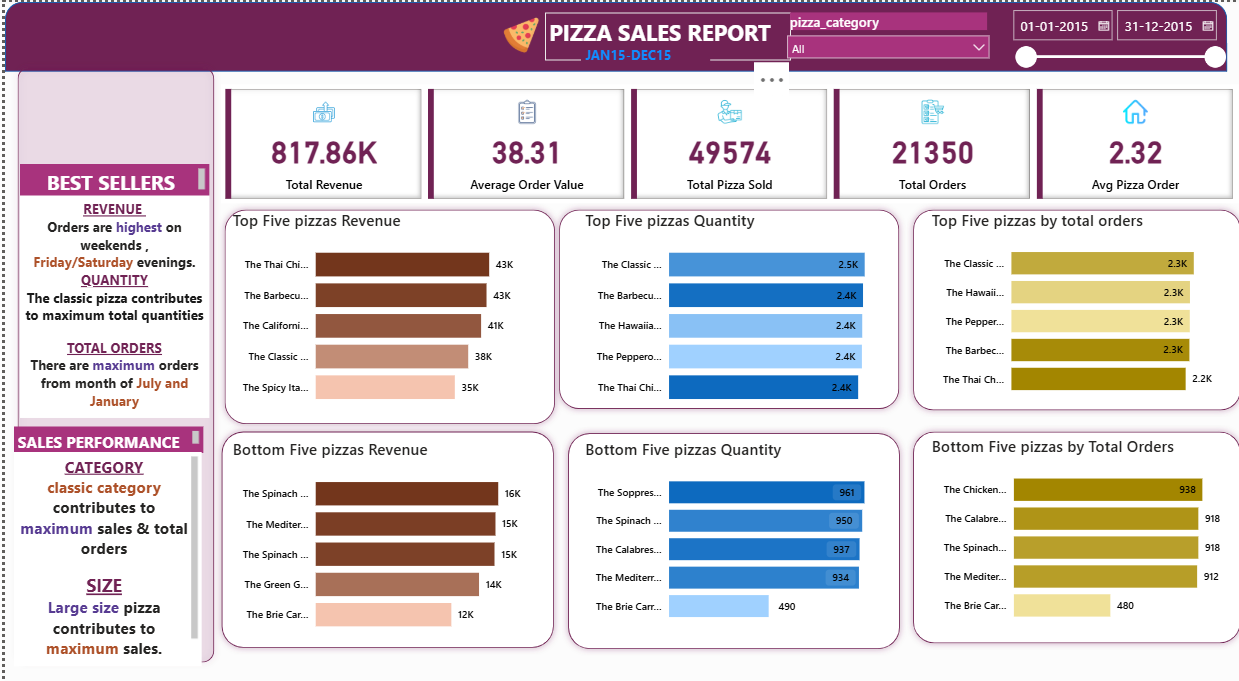

The page's visual inventory and layout, read from the dashboard file:
{"tool":"powerbi","page":{"name":"best and worst sales","canvas":[1500,820],"ordinal":1},"visuals":[{"type":"cardVisual","fields":{"Data":["pizza_sales.Total Revenue","pizza_sales.Average Order Value","pizza_sales.Total Pizza Sold","pizza_sales.Total Orders","pizza_sales.Avg Pizza Order"]},"box":[260,100,1230,143.3],"z":0},{"type":"shape","box":[0,0,1476,84],"z":1000},{"type":"textbox","box":[651.4,12.9,297.1,57.1],"z":2000},{"type":"textbox","box":[696,48,156,32],"z":3000},{"type":"image","box":[594,12,58,54],"z":4000},{"type":"shape","box":[256.7,243.3,415,275],"z":5000},{"type":"shape","box":[6.7,70,253.3,735],"z":6000},{"type":"textbox","box":[18.3,195,228.3,38.3],"z":7000},{"type":"textbox","box":[18.3,233.3,228.3,268.3],"z":8000},{"type":"textbox","box":[11.7,513.3,228.3,31.7],"z":9000},{"type":"textbox","box":[11.7,543.3,226.7,258.3],"z":10000},{"type":"slicer","fields":{"Values":["pizza_sales.pizza_category"]},"box":[934,8,264,62],"z":11000},{"type":"slicer","fields":{"Values":["pizza_sales.order_date"]},"box":[1204,0,278,104],"z":12000},{"type":"shape","box":[661.7,243.3,426.7,256.7],"z":13000},{"type":"shape","box":[1088.3,243.3,411.7,258.3],"z":14000},{"type":"shape","box":[671.7,513.3,416.7,276.7],"z":15000},{"type":"shape","box":[252.9,511.4,417.1,277.1],"z":16000},{"type":"shape","box":[1088.3,510,411.7,271.7],"z":17000},{"type":"barChart","title":"Top Five pizzas Revenue","fields":{"Y":["pizza_sales.Total Revenue"],"Category":["pizza_sales.pizza_name"]},"box":[270,250,370,250],"z":18000},{"type":"barChart","title":"Bottom Five pizzas Revenue","fields":{"Y":["pizza_sales.Total Revenue"],"Category":["pizza_sales.pizza_name"]},"box":[270,527.1,370,247.1],"z":19000},{"type":"barChart","title":"Top Five pizzas Quantity","fields":{"Category":["pizza_sales.pizza_name"],"Y":["pizza_sales.Total Pizza Sold"]},"box":[695,250,371.7,250],"z":20000},{"type":"barChart","title":"Bottom Five pizzas Quantity","fields":{"Category":["pizza_sales.pizza_name"],"Y":["pizza_sales.Total Pizza Sold"]},"box":[695,526.7,371.7,235],"z":21000},{"type":"barChart","title":"Top Five pizzas by total orders","fields":{"Category":["pizza_sales.pizza_name"],"Y":["pizza_sales.Total Orders"]},"box":[1113.3,250,351.7,238.3],"z":22000},{"type":"barChart","title":"Bottom Five pizzas by Total Orders","fields":{"Category":["pizza_sales.pizza_name"],"Y":["pizza_sales.Total Orders"]},"box":[1113.3,523.3,363.3,238.3],"z":23000}]}

Visuals, with their boxes in screenshot pixels (x1, y1, x2, y2), scaled from the page's 1500x820 canvas onto the 1239x681 screenshot:
cardVisual - pizza_sales.Total Revenue x pizza_sales.Average Order Value: box=[215, 83, 1231, 202]
shape: box=[0, 0, 1219, 70]
textbox: box=[538, 11, 783, 58]
textbox: box=[575, 40, 704, 66]
image: box=[491, 10, 539, 55]
shape: box=[212, 202, 555, 430]
shape: box=[6, 58, 215, 669]
textbox: box=[15, 162, 204, 194]
textbox: box=[15, 194, 204, 417]
textbox: box=[10, 426, 198, 453]
textbox: box=[10, 451, 197, 666]
slicer - pizza_sales.pizza_category: box=[771, 7, 990, 58]
slicer - pizza_sales.order_date: box=[995, 0, 1224, 86]
shape: box=[547, 202, 899, 415]
shape: box=[899, 202, 1238, 417]
shape: box=[555, 426, 899, 656]
shape: box=[209, 425, 553, 655]
shape: box=[899, 424, 1238, 649]
"Top Five pizzas Revenue" barChart: box=[223, 208, 529, 415]
"Bottom Five pizzas Revenue" barChart: box=[223, 438, 529, 643]
"Top Five pizzas Quantity" barChart: box=[574, 208, 881, 415]
"Bottom Five pizzas Quantity" barChart: box=[574, 437, 881, 633]
"Top Five pizzas by total orders" barChart: box=[920, 208, 1210, 406]
"Bottom Five pizzas by Total Orders" barChart: box=[920, 435, 1220, 632]
